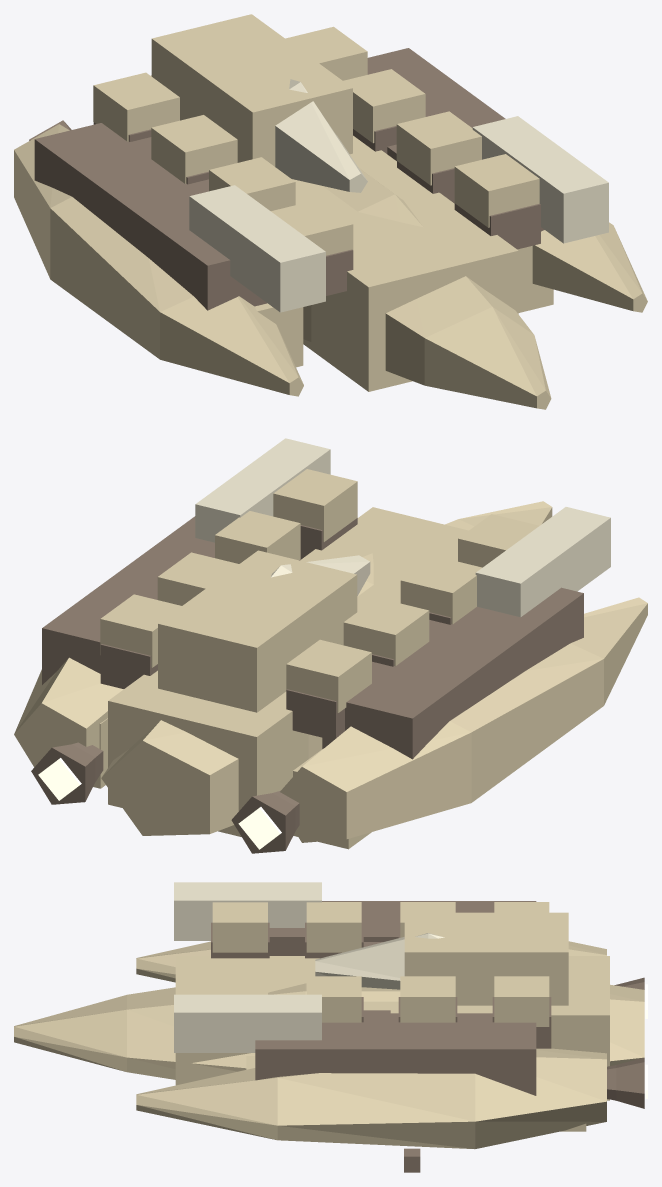
The picture shows the model from 3 angles, top to bottom: view 1: azimuth 30°, elevation 25°; view 2: azimuth 150°, elevation 25°; view 3: azimuth 270°, elevation 25°; orthographic projection. The views are drawn at different scales.
Bounding box in the file's own units: 14.5 × 6.11 × 21.62.
